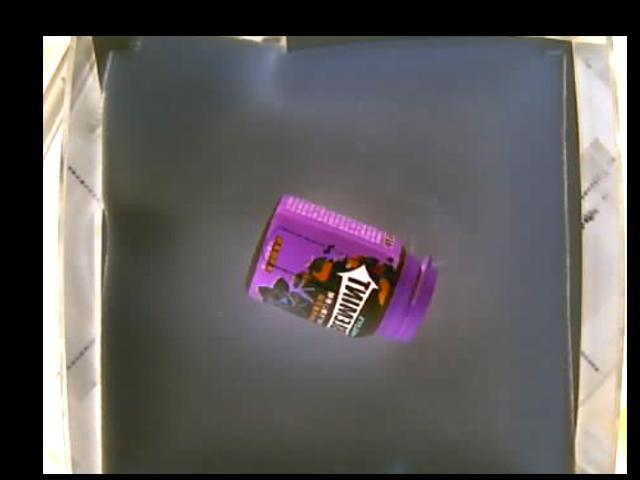Bottle: (245, 193, 435, 340)
